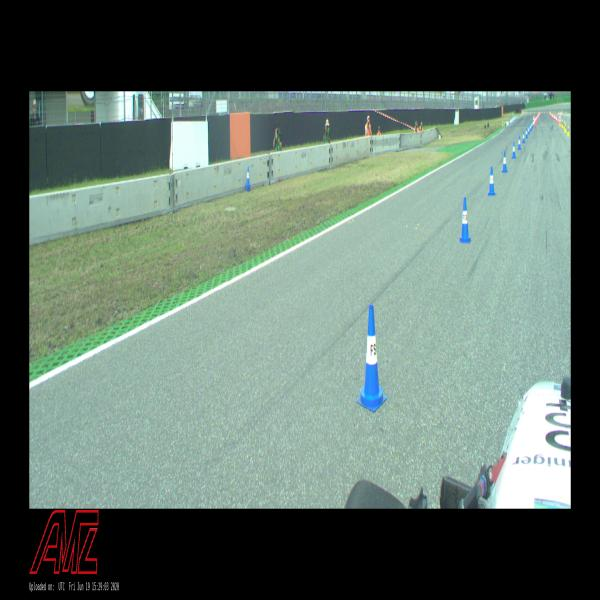blue_cone: (357, 305, 387, 412), (460, 198, 470, 243), (488, 167, 495, 195), (502, 151, 507, 172), (246, 167, 250, 186), (512, 142, 516, 158), (518, 136, 521, 149), (522, 132, 525, 143), (526, 128, 528, 138), (528, 126, 530, 134), (532, 121, 534, 127), (530, 124, 531, 132), (531, 122, 532, 130)
large_orange_cone: (533, 115, 535, 126), (559, 113, 561, 123)
orange_cone: (558, 118, 558, 124)
yellow_cone: (567, 125, 569, 136), (564, 124, 566, 132), (559, 119, 561, 126), (564, 121, 565, 130), (562, 120, 563, 127)
